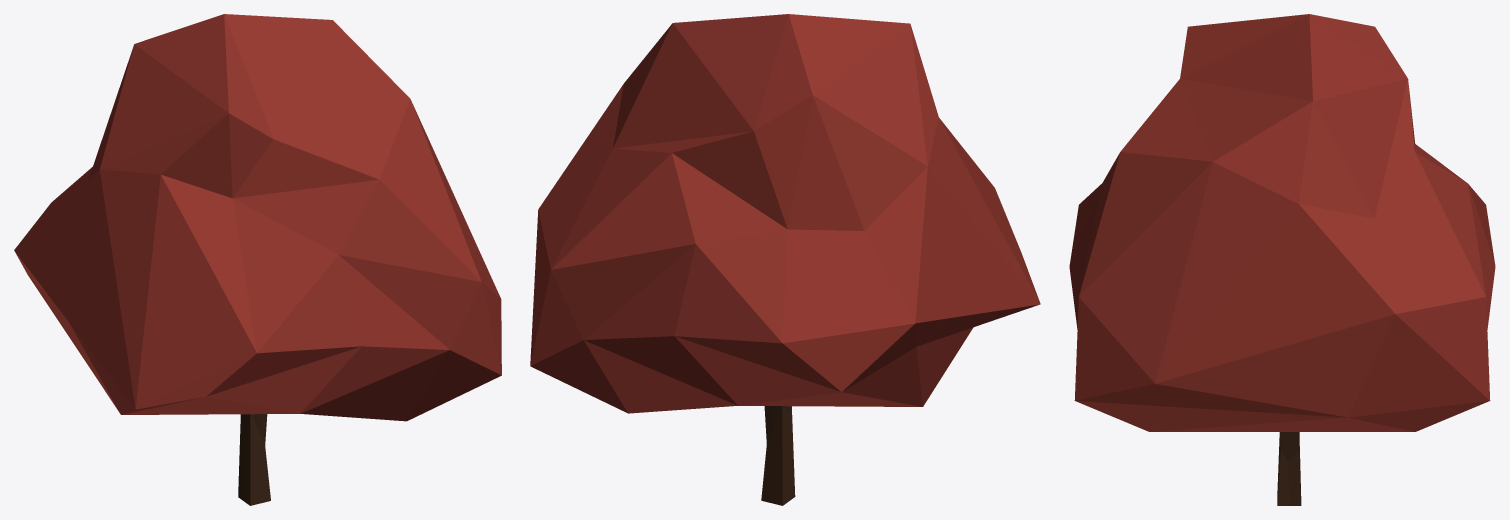
File: Tree_19_Red.fbx
The picture shows the model from 3 angles, left to right: view 1: azimuth 30°, elevation 25°; view 2: azimuth 150°, elevation 25°; view 3: azimuth 270°, elevation 25°; orthographic projection. The views are drawn at different scales.
Visible parts, largest first — view 1: Tree_19_Red_Part_1, Tree_19_Red_Part_2; view 2: Tree_19_Red_Part_1, Tree_19_Red_Part_2; view 3: Tree_19_Red_Part_1, Tree_19_Red_Part_2.
Boxes of the visible parts, <box> form: Tree_19_Red_Part_1: <box>14,14,501,421</box>; Tree_19_Red_Part_2: <box>238,414,270,505</box>; Tree_19_Red_Part_1: <box>530,14,1040,413</box>; Tree_19_Red_Part_2: <box>761,406,795,505</box>; Tree_19_Red_Part_1: <box>1069,14,1495,431</box>; Tree_19_Red_Part_2: <box>1277,432,1301,505</box>.
Size of the model in its own units: 641 by 800 by 647.
